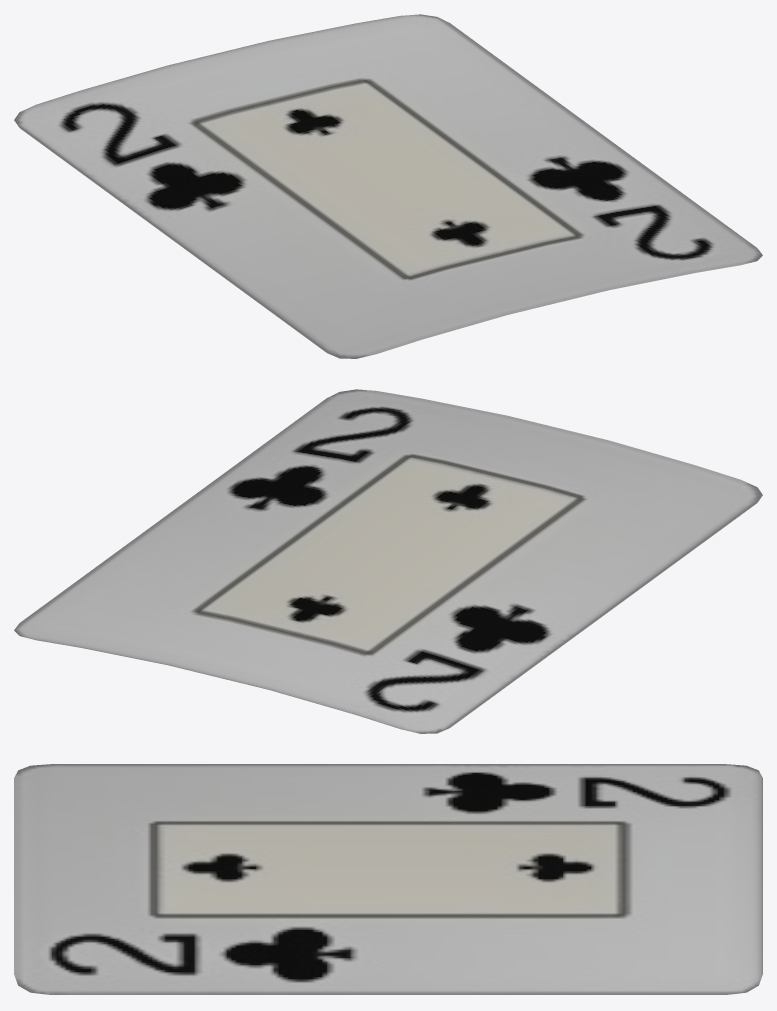
File: card.2layer.glb
3 renders of one model, top to bottom at view 1: azimuth 30°, elevation 25°; view 2: azimuth 150°, elevation 25°; view 3: azimuth 270°, elevation 25°, orthographic. The views are drawn at different scales.
Visible parts, largest first — view 1: card_01; view 2: card_01; view 3: card_01.
Boxes of the visible parts, left/top/right/bottom form: card_01: left=14, top=14, right=762, bottom=358; card_01: left=14, top=389, right=762, bottom=733; card_01: left=14, top=764, right=762, bottom=994.
Bounding box in the file's own units: 12.07 × 0.3186 × 16.54.
Materials: 1 (1 with a texture image).
